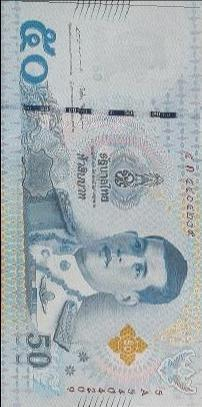50BahtTai: (8, 0, 200, 396)
